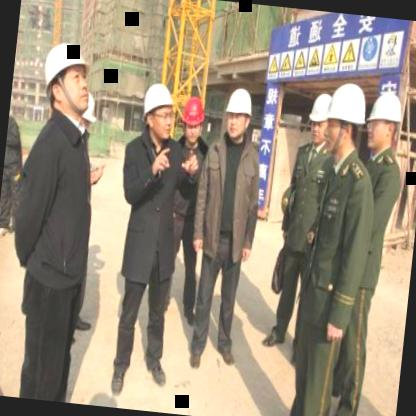helmet: (34, 31, 97, 121), (324, 76, 368, 165), (364, 85, 406, 156), (137, 79, 180, 142), (220, 80, 258, 146), (304, 88, 336, 146), (175, 94, 207, 144)
